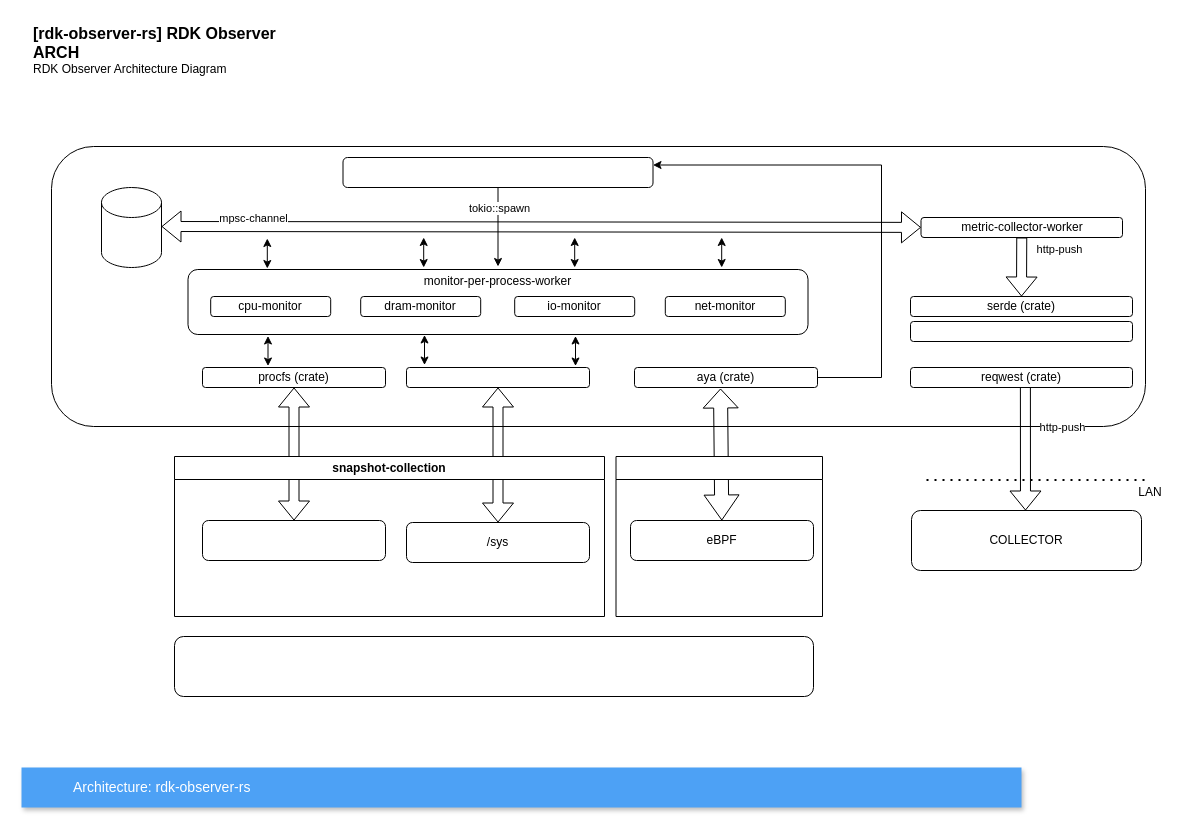
Image size: 1197x831. Some labels were removed from this diagram. The shapes that lost their labels are listed below. From the top down, each one's centre as x and y in pixels, then its label:
(x=497, y=172): main
(x=131, y=227): process registry
(x=1021, y=331): ciborium (crate)
(x=498, y=377): sysfs (crate)
(x=294, y=540): /proc
(x=718, y=536): event-drive-collection
(x=494, y=666): KERNEL
